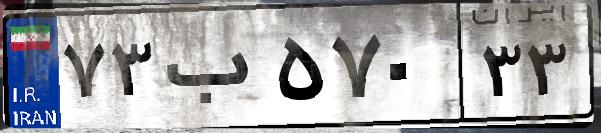0: (385, 28, 445, 110)
3: (475, 38, 525, 113), (525, 38, 570, 115), (110, 28, 158, 98)
5: (270, 28, 330, 110)
7: (330, 28, 385, 110), (57, 26, 110, 100)
ب: (158, 20, 270, 120)
